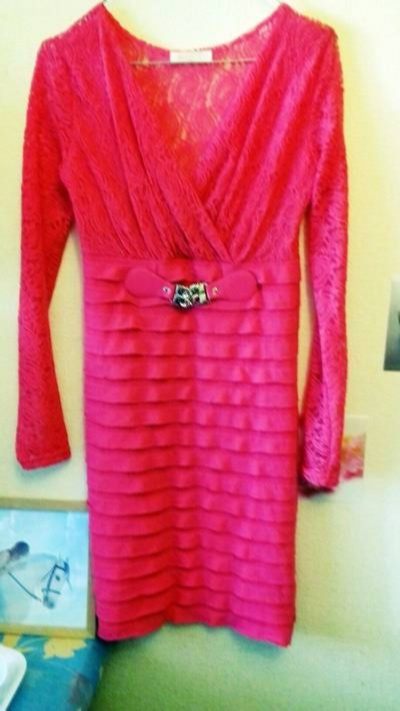Dress: (14, 11, 383, 683)
